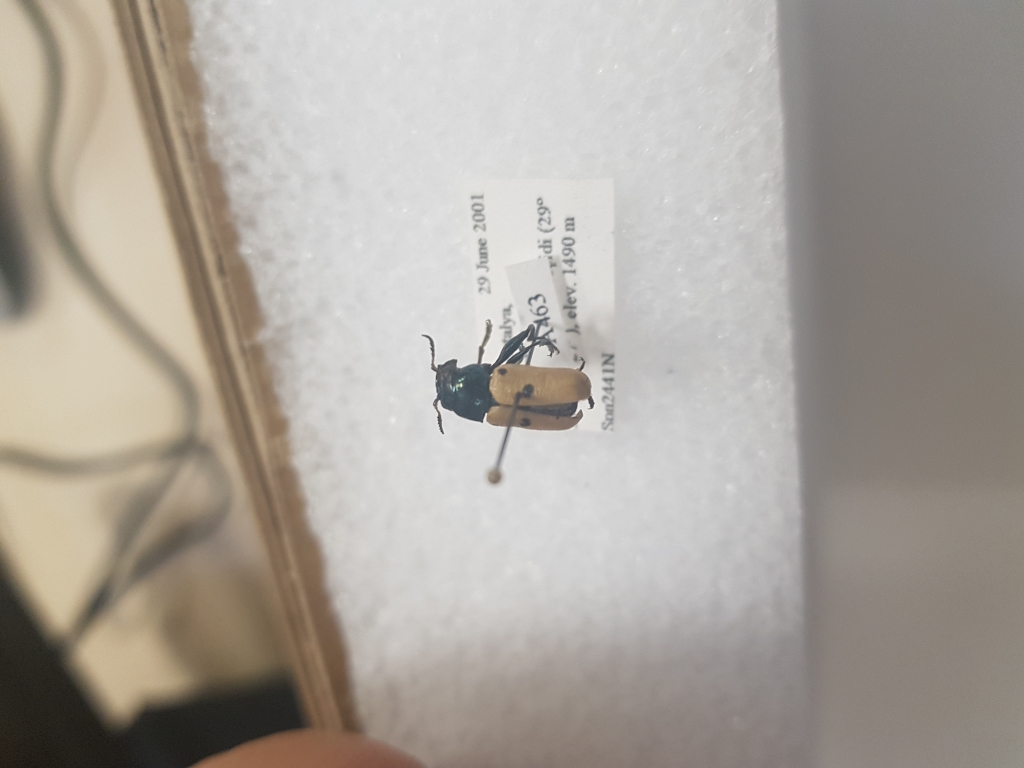Labidostomis_maculipennis: (412, 316, 604, 436)
